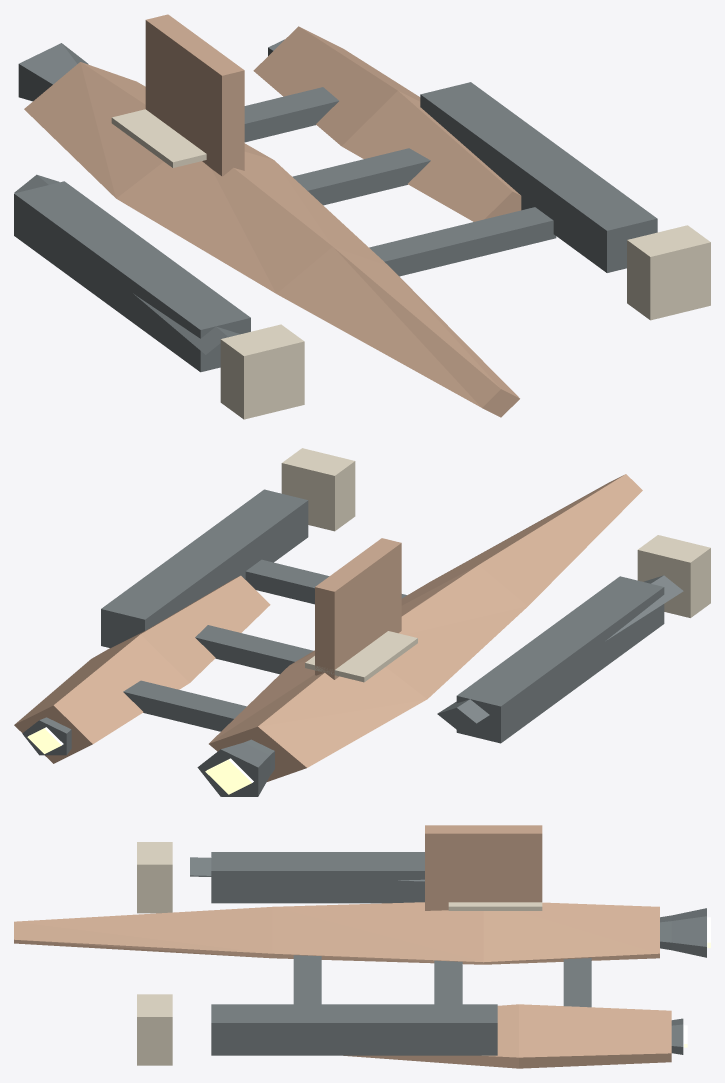
The picture shows the model from 3 angles, top to bottom: view 1: azimuth 30°, elevation 25°; view 2: azimuth 150°, elevation 25°; view 3: azimuth 270°, elevation 25°; orthographic projection. The views are drawn at different scales.
Bounding box in the file's own units: 9.32 × 3.81 × 15.58.
